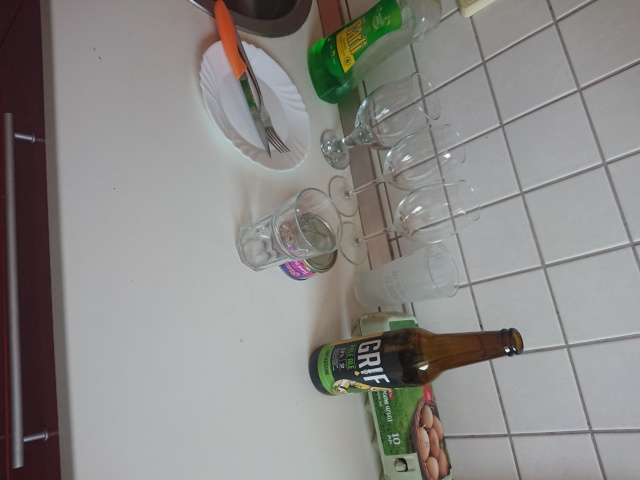Giana Tuna Salad Mexico 185g: (268, 210, 340, 283)
